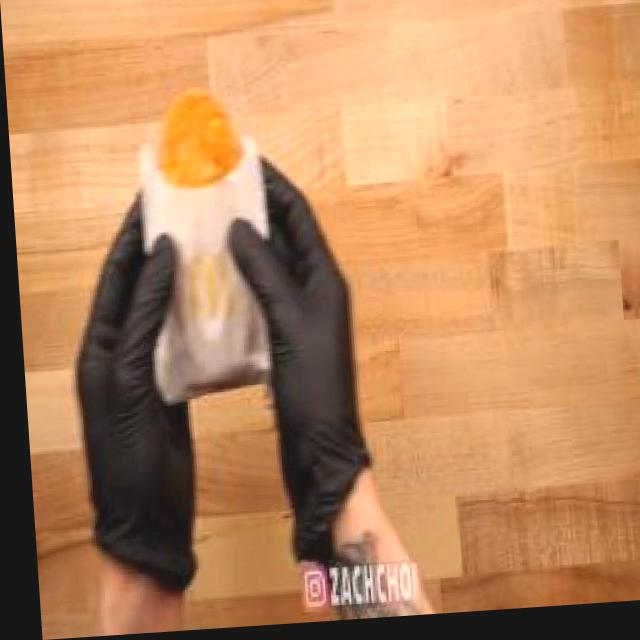Hashbrown: (138, 76, 251, 236)
